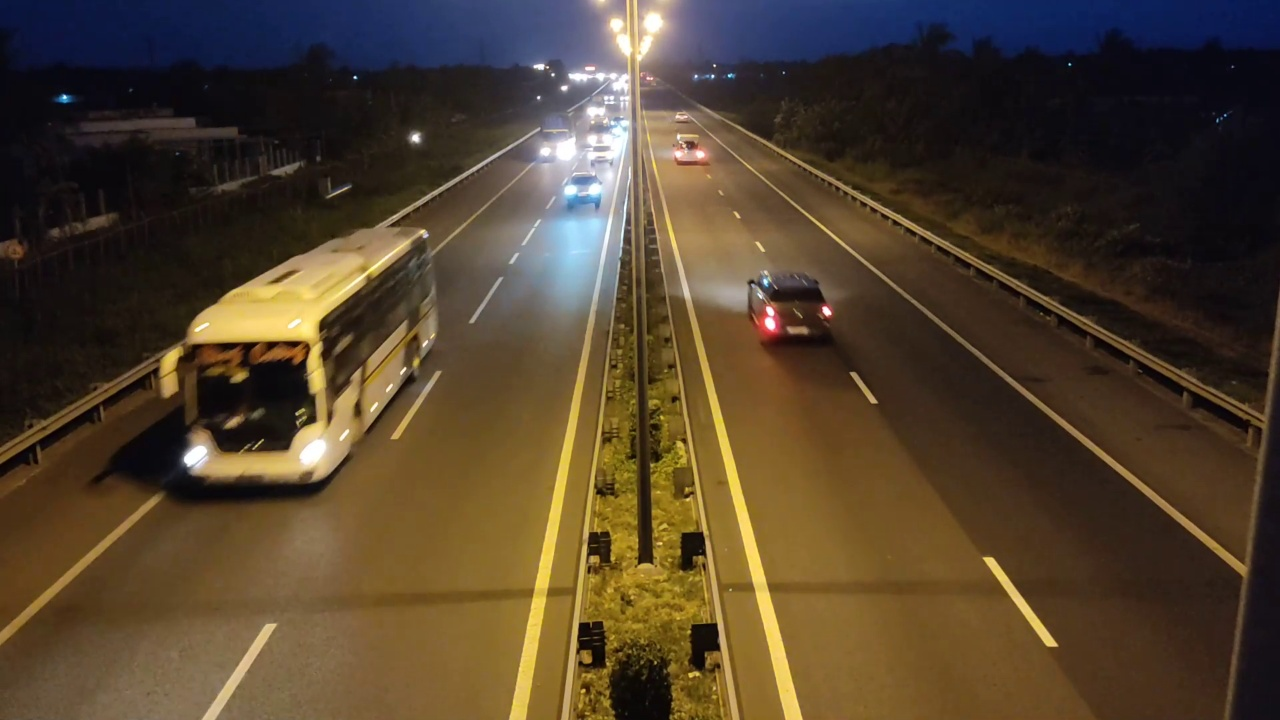bus: (175, 225, 440, 489)
car: (746, 269, 835, 344), (562, 172, 603, 211)
